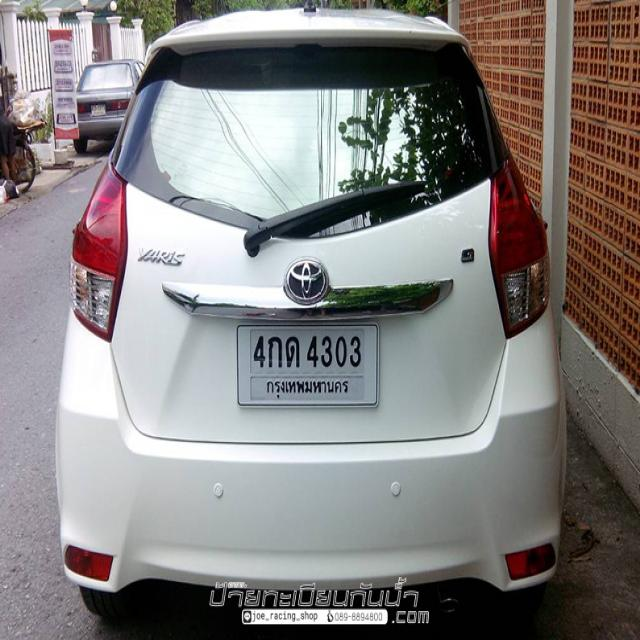license_plate: (232, 314, 388, 414)
